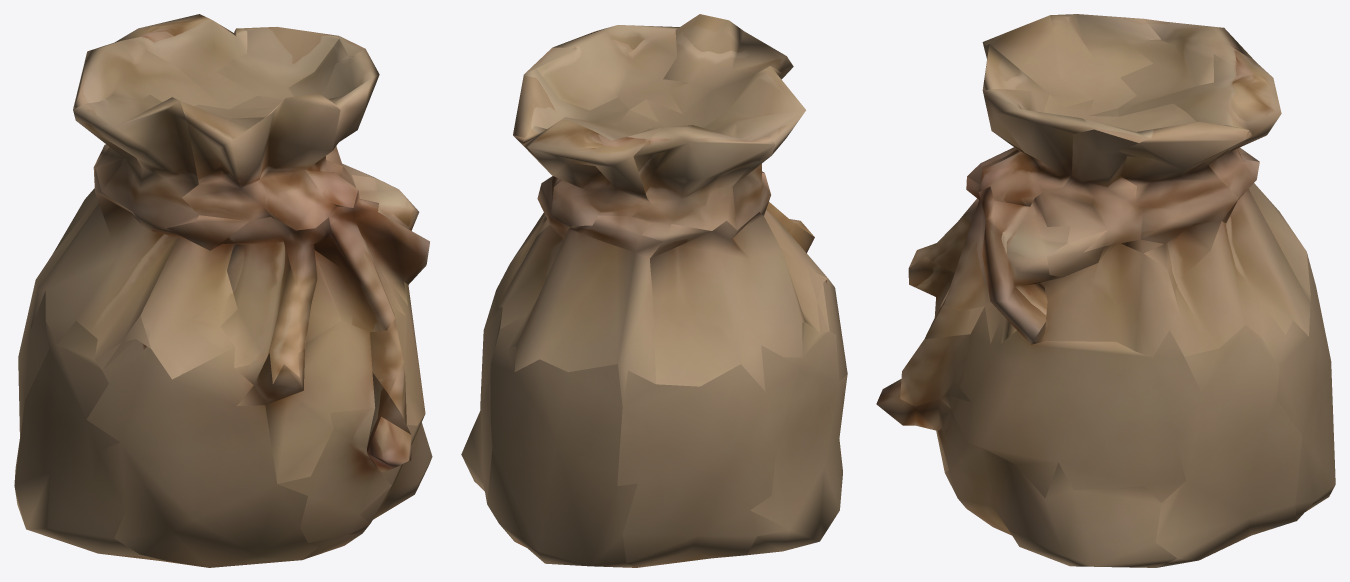
The model's file is FoodSack.glb.
3 views of the same model, side by side, from view 1: azimuth 30°, elevation 25°; view 2: azimuth 150°, elevation 25°; view 3: azimuth 270°, elevation 25° (orthographic). The views are drawn at different scales.
Visible parts, largest first — view 1: FoodSack; view 2: FoodSack; view 3: FoodSack.
Part boxes in pixels (box(x1,y1,x2,y2)): FoodSack: box(14, 14, 432, 567); FoodSack: box(461, 14, 847, 567); FoodSack: box(876, 14, 1335, 567).
Bounding box in the file's own units: 0.9086 × 1.11 × 0.9973.
1 material, 1 textured.
